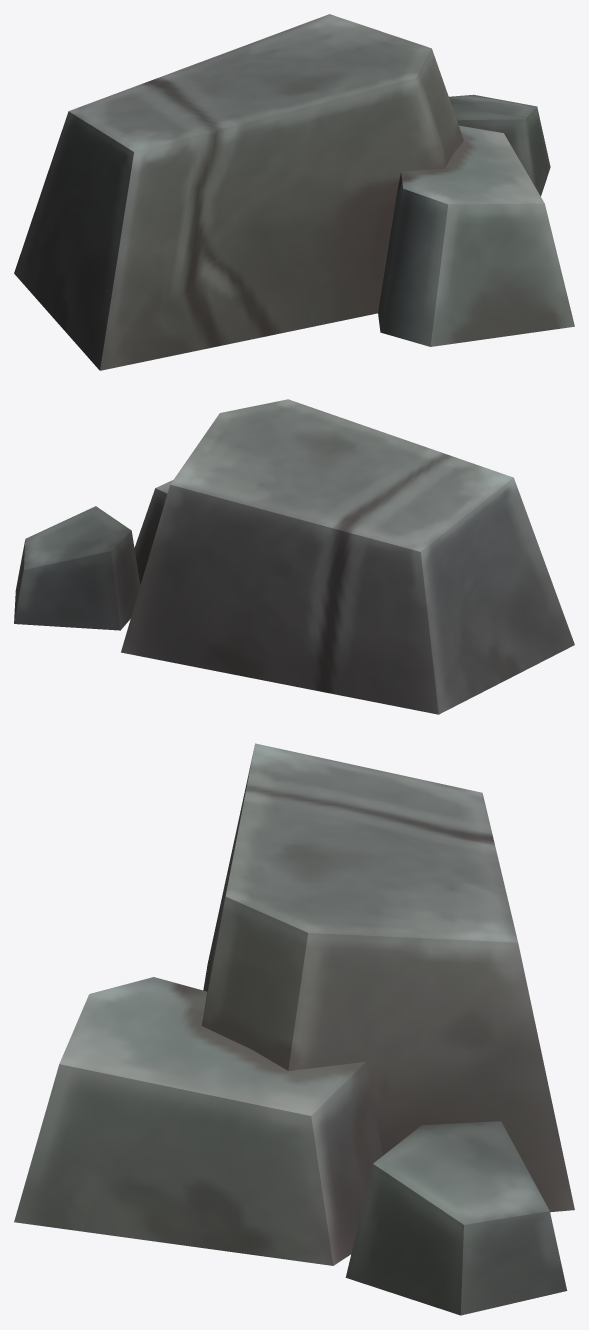
The model's file is stone02.fbx.
The picture shows the model from 3 angles, top to bottom: view 1: azimuth 30°, elevation 25°; view 2: azimuth 150°, elevation 25°; view 3: azimuth 270°, elevation 25°; orthographic projection. The views are drawn at different scales.
Parts seen in each view (by area): view 1: stone02; view 2: stone02; view 3: stone02.
Boxes of the visible parts, x1,y1,x2,y2 form: stone02: (14,14,574,370); stone02: (14,399,574,714); stone02: (14,743,574,1315).
Bounding box in the file's own units: 97.69 × 35.63 × 65.87.
